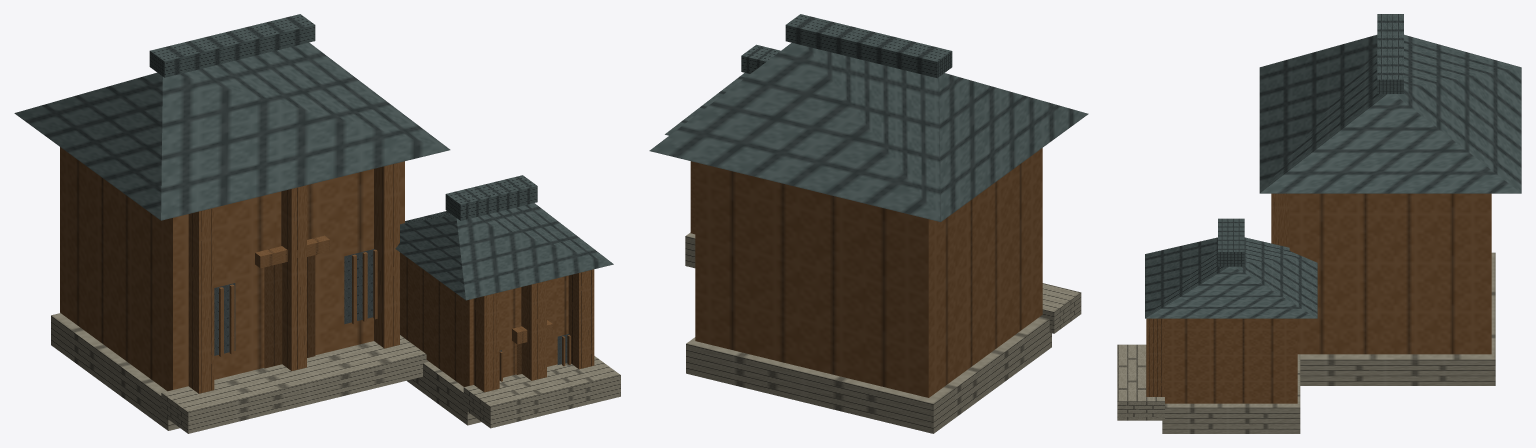
File: domestic-STABLE-2-lod0.glb
The picture shows the model from 3 angles, left to right: view 1: azimuth 30°, elevation 25°; view 2: azimuth 150°, elevation 25°; view 3: azimuth 270°, elevation 25°; orthographic projection. The views are drawn at different scales.
Size of the model in its own units: 0.755 by 0.594 by 0.762.
Materials: 1 (1 with a texture image).
